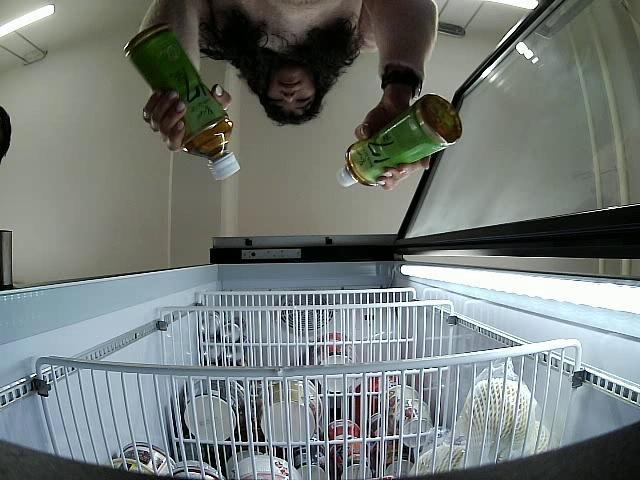19_17cha: (124, 24, 240, 183), (336, 95, 460, 186)
